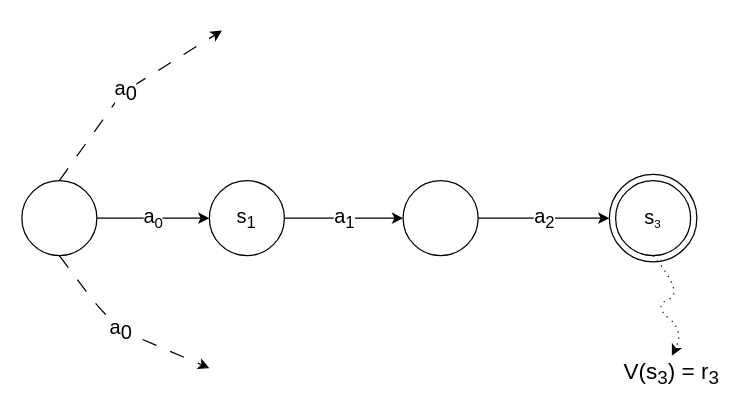
This 756x415 diagram has some shape labels left out. The box of each missing label's shape, as (x1, y1, x2, y2) in pixels:
s 0: (21, 179, 97, 256)
s 2: (402, 179, 478, 256)
